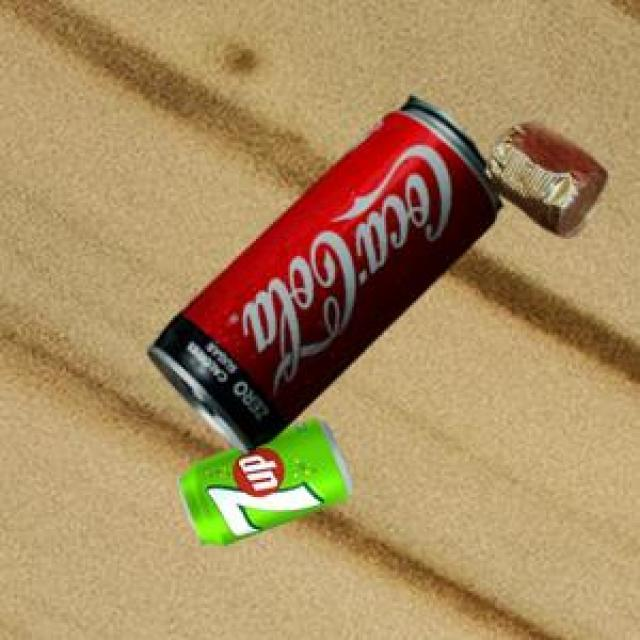Can: (146, 93, 498, 451), (176, 415, 349, 543), (483, 123, 603, 234)
